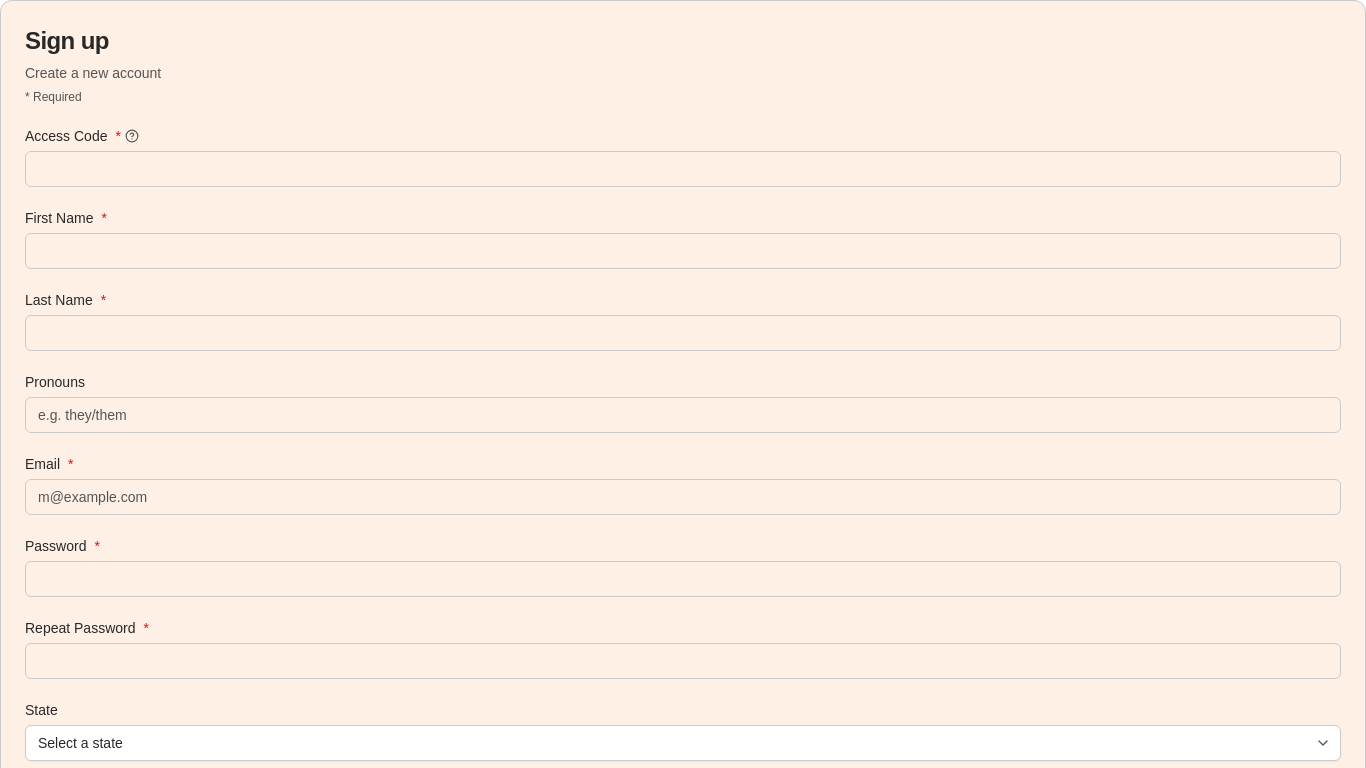
SignUpForm › district dropdown is disabled until a state is selected
Step 1. Select "Pennsylvania" in the dropdown labelled "State" → (683, 743), box [25, 725, 1341, 761]
(page scrolled)
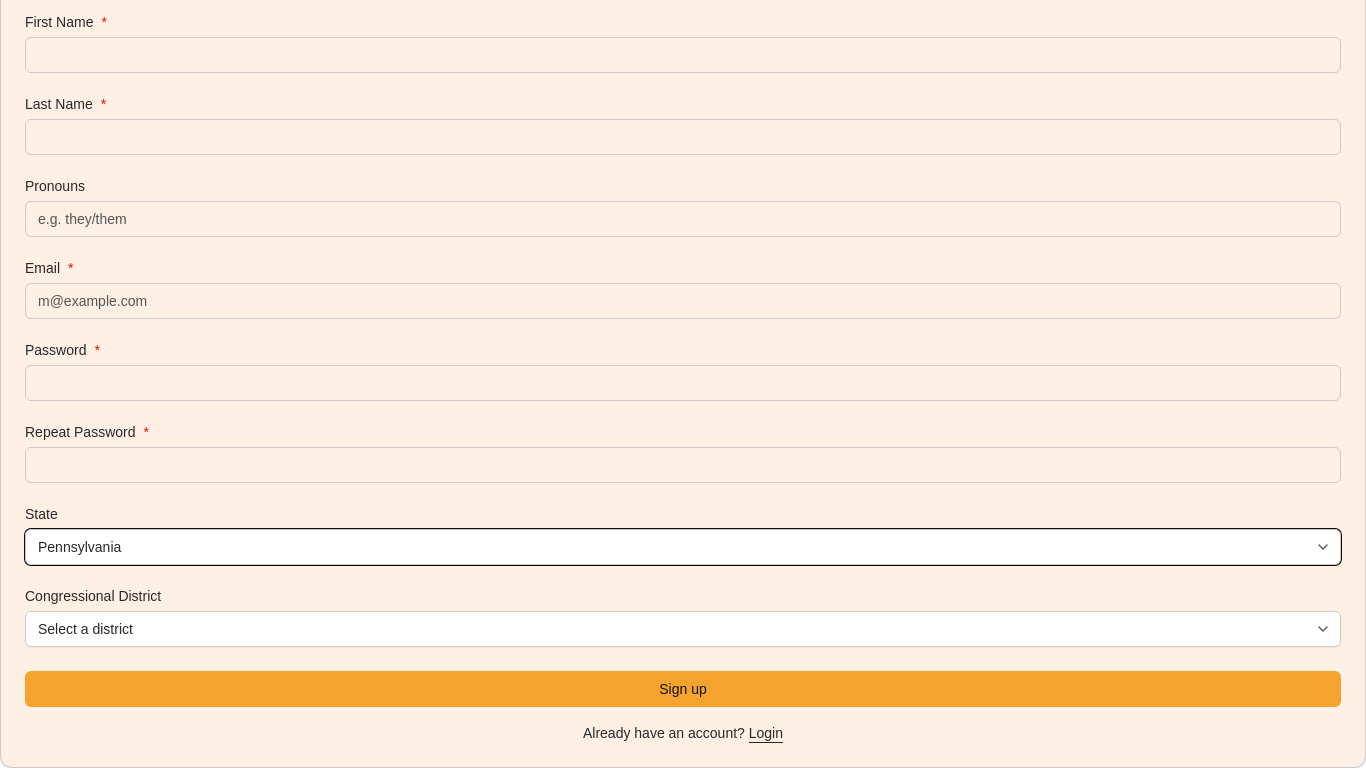
Check: the dropdown labelled "Congressional District" is enabled, box [25, 611, 1341, 647]
